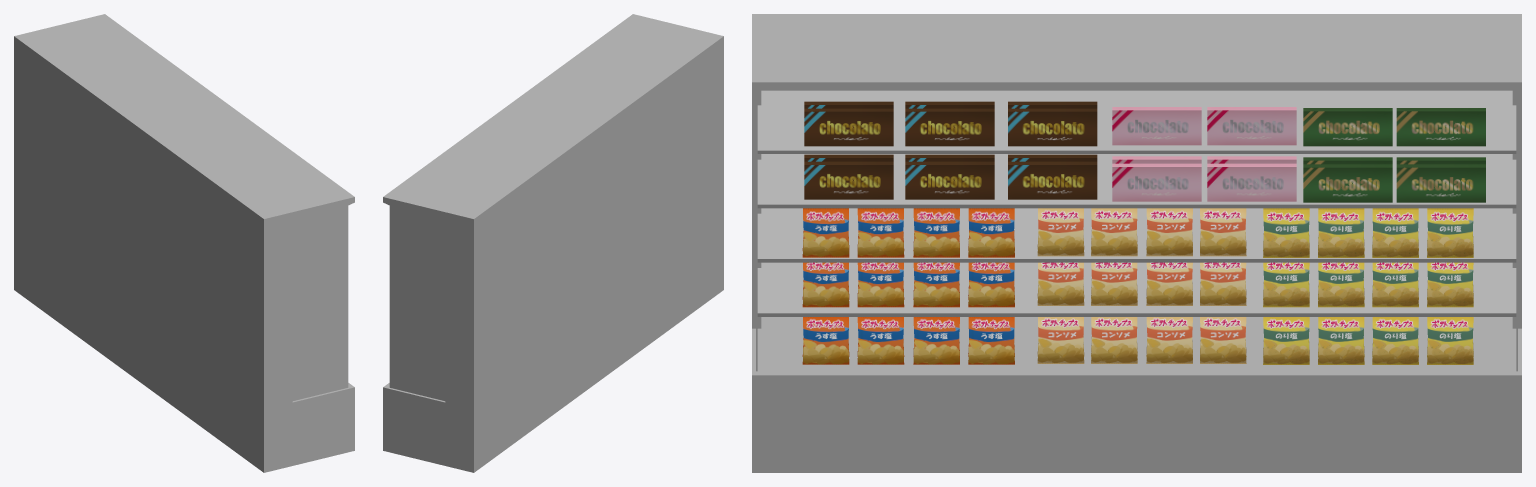
The model's file is shelf_sweet01.fbx.
The picture shows the model from 3 angles, left to right: view 1: azimuth 30°, elevation 25°; view 2: azimuth 150°, elevation 25°; view 3: azimuth 270°, elevation 25°; orthographic projection. The views are drawn at different scales.
Parts seen in each view (by area): view 1: shelf_sweet; view 2: shelf_sweet; view 3: shelf_sweet.
Boxes of the visible parts, x1,y1,x2,y2 form: shelf_sweet: (14,14,354,472); shelf_sweet: (383,14,723,472); shelf_sweet: (752,14,1521,472).
Bounding box in the file's own units: 105 × 280 × 500.
